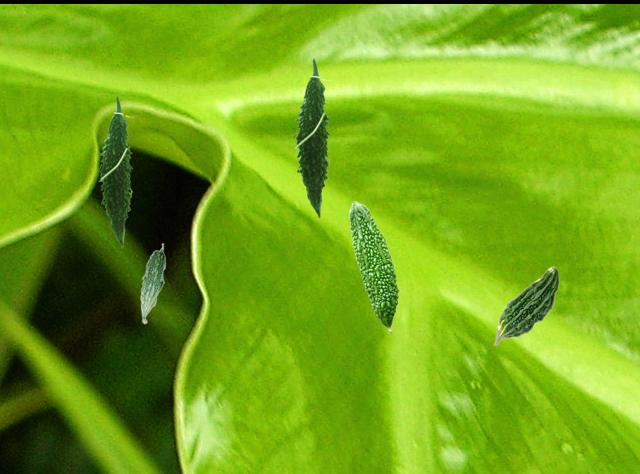ampalaya: (292, 57, 335, 218), (348, 201, 400, 333), (96, 94, 137, 248), (493, 266, 560, 346), (139, 242, 166, 324)
